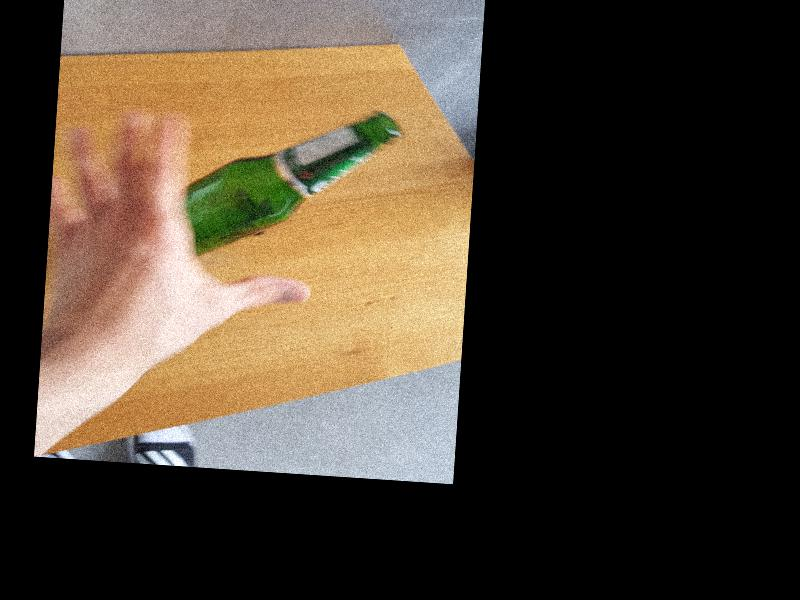Beer: (182, 99, 404, 270)
